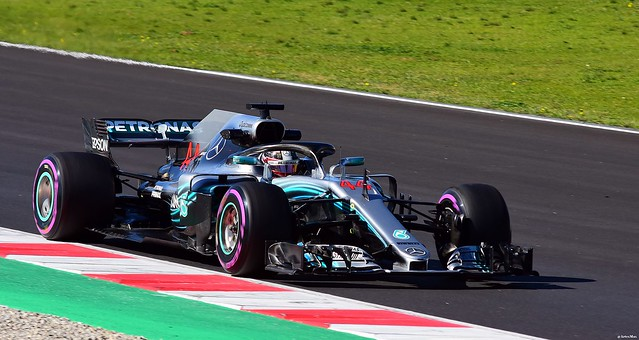F1 Car: (28, 97, 544, 292)
